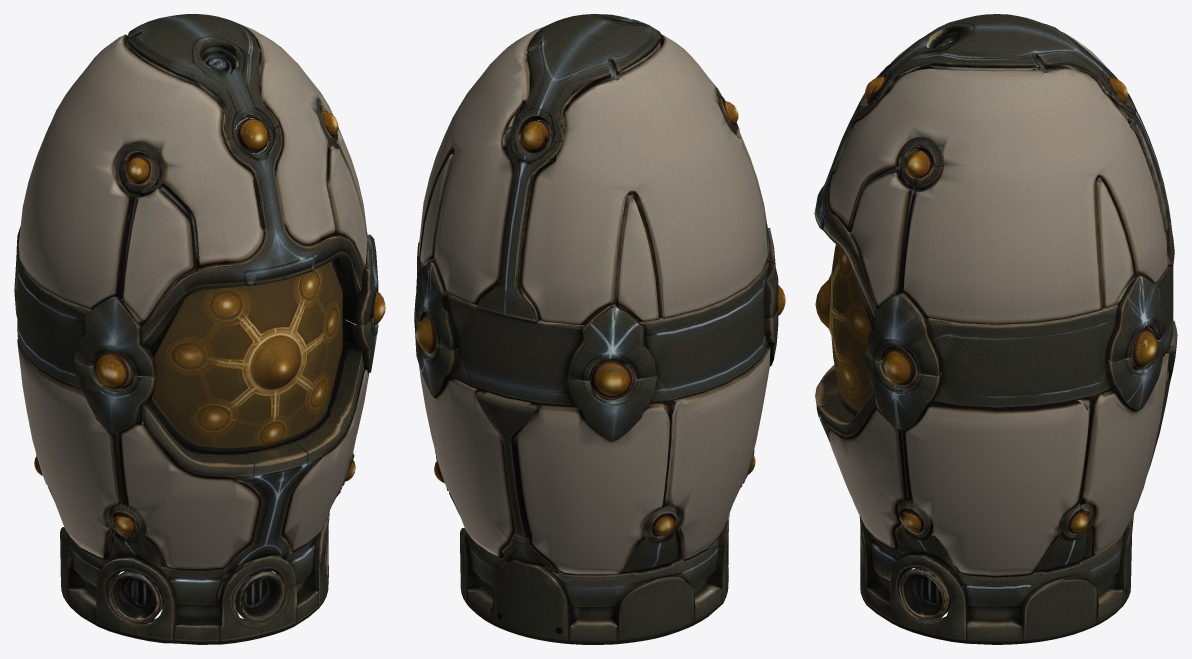
The model's file is charged-knowledge-capsule.glb.
The picture shows the model from 3 angles, left to right: view 1: azimuth 30°, elevation 25°; view 2: azimuth 150°, elevation 25°; view 3: azimuth 270°, elevation 25°; orthographic projection.
Visible parts, largest first — view 1: tripo_5bf55e13_b002_4a22_b3c2_eb8594f8b3ea; view 2: tripo_5bf55e13_b002_4a22_b3c2_eb8594f8b3ea; view 3: tripo_5bf55e13_b002_4a22_b3c2_eb8594f8b3ea.
Part boxes in pixels (x1=…): tripo_5bf55e13_b002_4a22_b3c2_eb8594f8b3ea: x1=14, y1=14, x2=385, y2=644; tripo_5bf55e13_b002_4a22_b3c2_eb8594f8b3ea: x1=414, y1=14, x2=785, y2=644; tripo_5bf55e13_b002_4a22_b3c2_eb8594f8b3ea: x1=814, y1=14, x2=1177, y2=644.
Size of the model in its own units: 0.5757 by 0.9995 by 0.5854.
Materials: 1 (1 with a texture image).
